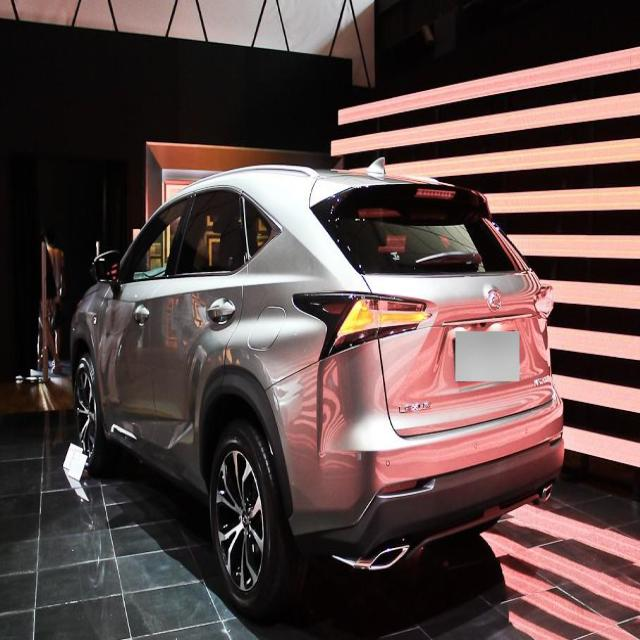back_glass: (312, 184, 534, 280)
back_left_side_light: (291, 285, 429, 361)
door: (154, 195, 246, 463)
front_left_side_door: (98, 186, 192, 465)
front_left_side_mirror: (92, 238, 127, 292)
rear_bumper: (286, 373, 568, 551)
wheel: (212, 422, 279, 608), (75, 354, 111, 475)
